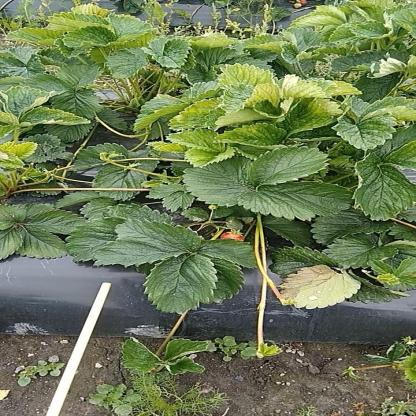ripe: (220, 232, 245, 242)
